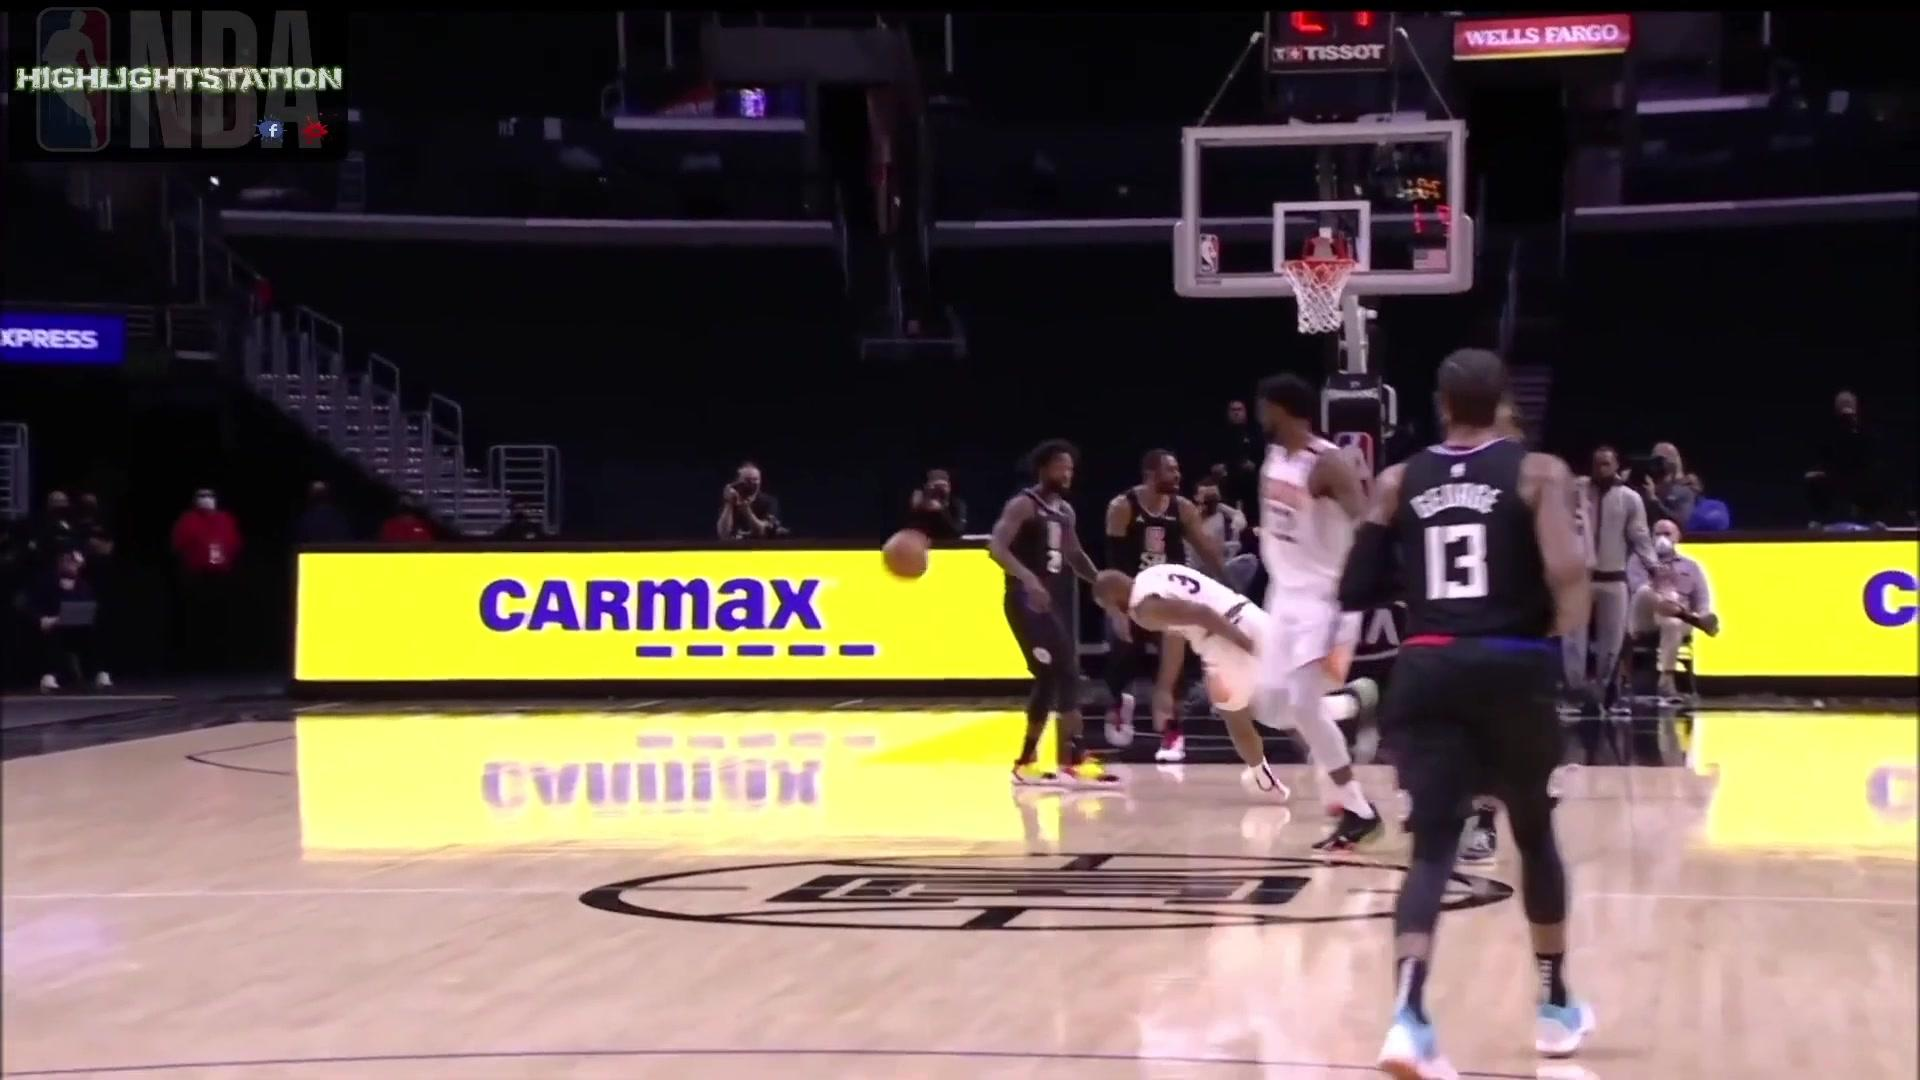no_foul: (989, 431, 1246, 794)
